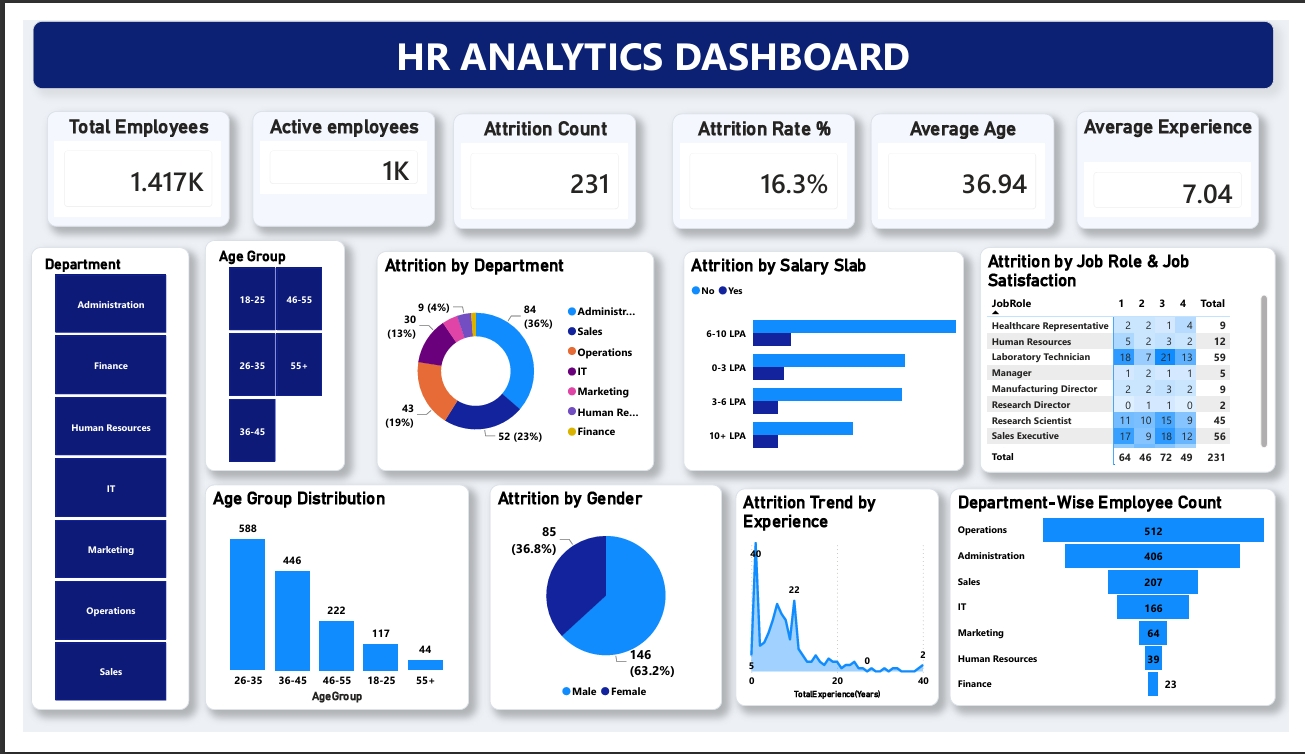

This screenshot's page, from the dashboard's own definition file:
{"tool":"powerbi","page":{"name":"Page 1","canvas":[1600,900],"ordinal":0},"visuals":[{"type":"textbox","box":[10.7,0,1570.4,85.6],"z":0},{"type":"cardVisual","title":"Total Employees","fields":{"Data":["CountNonNull(HR_Analytics-4.EmpID)"]},"box":[28.6,114.3,231.4,145.7],"z":1000},{"type":"cardVisual","title":"Attrition Count","fields":{"Data":["Sum(HR_Analytics-4.AttritionCount)"]},"box":[542.9,117.1,231.4,145.7],"z":2000},{"type":"cardVisual","title":"Attrition Rate %","fields":{"Data":["HR_Analytics-4.Attrition Rate %"]},"box":[820,117.1,231.4,145.7],"z":3000},{"type":"cardVisual","title":"Average Age","fields":{"Data":["Avg(HR_Analytics-4.Age)"]},"box":[1071.4,117.1,231.4,145.7],"z":4000},{"type":"cardVisual","title":"Active employees","fields":{"Data":["Sum(HR_Analytics-4.EmployeeCount)"]},"box":[288.6,114.3,231.4,145.7],"z":5000},{"type":"cardVisual","title":"Average Experience ","fields":{"Data":["Avg(HR_Analytics-4.YearsatCompany)"]},"box":[1331.4,114.3,231,148.6],"z":6000},{"type":"donutChart","title":"Attrition by Department ","fields":{"Category":["HR_Analytics-4.Department"],"Y":["Sum(HR_Analytics-4.AttritionCount)"]},"box":[445.7,291.4,351.4,277.1],"z":7000},{"type":"clusteredBarChart","title":"Attrition by Salary Slab","fields":{"Category":["HR_Analytics-4.SalarySlab"],"Y":["CountNonNull(HR_Analytics-4.EmpID)"],"Series":["HR_Analytics-4.Attrition"]},"box":[834.3,291.4,354.3,277.1],"z":8000},{"type":"pivotTable","title":"Attrition by Job Role & Job Satisfaction","fields":{"Rows":["HR_Analytics-4.JobRole"],"Values":["Sum(HR_Analytics-4.AttritionCount)"],"Columns":["HR_Analytics-4.JobSatisfaction"]},"box":[1208.6,285.7,374.3,285.7],"z":9000},{"type":"columnChart","title":"Age Group Distribution","fields":{"Category":["HR_Analytics-4.AgeGroup"],"Y":["Sum(HR_Analytics-4.EmployeeCount)"]},"box":[228.6,585.7,334.3,285.7],"z":10000},{"type":"pieChart","title":"Attrition by Gender","fields":{"Category":["HR_Analytics-4.Gender"],"Y":["Sum(HR_Analytics-4.AttritionCount)"]},"box":[588.6,585.7,294.3,285.7],"z":11000},{"type":"areaChart","title":"Attrition Trend by Experience","fields":{"Category":["HR_Analytics-4.TotalExperience(Years)"],"Y":["Sum(HR_Analytics-4.AttritionCount)"]},"box":[900,591.4,257.1,274.3],"z":12000},{"type":"funnel","title":"Department-Wise Employee Count","fields":{"Category":["HR_Analytics-4.Department"],"Y":["Sum(HR_Analytics-4.EmployeeCount)"]},"box":[1171.4,591.4,411.4,274.3],"z":13000},{"type":"slicer","fields":{"Values":["HR_Analytics-4.Department"]},"box":[8.6,285.7,200,585.7],"z":14000},{"type":"slicer","fields":{"Values":["HR_Analytics-4.AgeGroup"]},"box":[228.6,277.1,177.1,291.4],"z":15000}]}

Visuals, with their boxes in screenshot pixels (x1, y1, x2, y2), scaled from the page's 1600x900 canvas onto the 1305x754 screenshot:
textbox: (9, 0, 1290, 72)
"Total Employees" cardVisual: (23, 96, 212, 218)
"Attrition Count" cardVisual: (443, 98, 632, 220)
"Attrition Rate %" cardVisual: (669, 98, 858, 220)
"Average Age" cardVisual: (874, 98, 1063, 220)
"Active employees" cardVisual: (235, 96, 424, 218)
"Average Experience " cardVisual: (1086, 96, 1274, 220)
"Attrition by Department " donutChart: (364, 244, 650, 476)
"Attrition by Salary Slab" clusteredBarChart: (680, 244, 969, 476)
"Attrition by Job Role & Job Satisfaction" pivotTable: (986, 239, 1291, 479)
"Age Group Distribution" columnChart: (186, 491, 459, 730)
"Attrition by Gender" pieChart: (480, 491, 720, 730)
"Attrition Trend by Experience" areaChart: (734, 495, 944, 725)
"Department-Wise Employee Count" funnel: (955, 495, 1291, 725)
slicer - HR_Analytics-4.Department: (7, 239, 170, 730)
slicer - HR_Analytics-4.AgeGroup: (186, 232, 331, 476)
